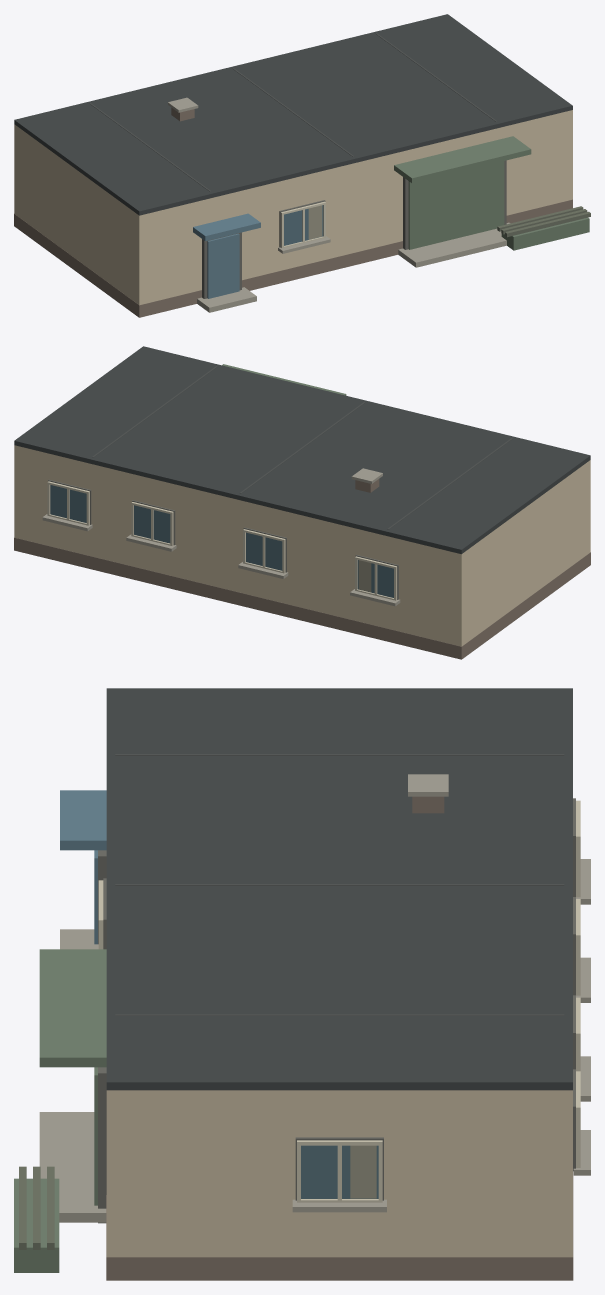
File: maintenance.glb
The picture shows the model from 3 angles, top to bottom: view 1: azimuth 30°, elevation 25°; view 2: azimuth 150°, elevation 25°; view 3: azimuth 270°, elevation 25°; orthographic projection. The views are drawn at different scales.
Visible parts, largest first — view 1: maintenance; view 2: maintenance; view 3: maintenance.
Part boxes in pixels (x1=…): maintenance: x1=14, y1=14, x2=590, y2=317; maintenance: x1=14, y1=346, x2=590, y2=659; maintenance: x1=14, y1=688, x2=590, y2=1280.
Size of the model in its own units: 16.32 by 4.29 by 9.9.
